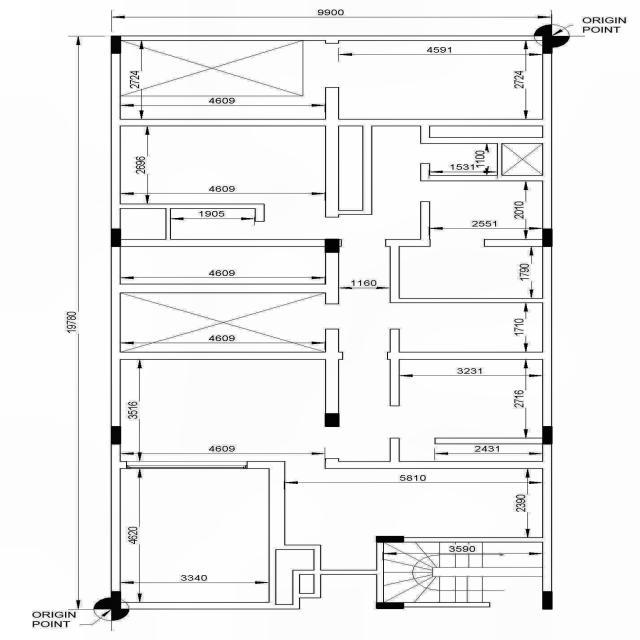Column: (110, 228, 122, 247), (324, 239, 340, 253), (324, 413, 340, 427), (110, 36, 122, 54), (110, 426, 122, 444), (110, 591, 122, 609), (542, 228, 553, 247), (542, 591, 553, 610), (542, 36, 553, 54), (542, 426, 553, 444), (376, 536, 404, 543), (376, 602, 404, 609)
Staircase: (383, 542, 542, 602)
Window: (126, 461, 248, 469)
